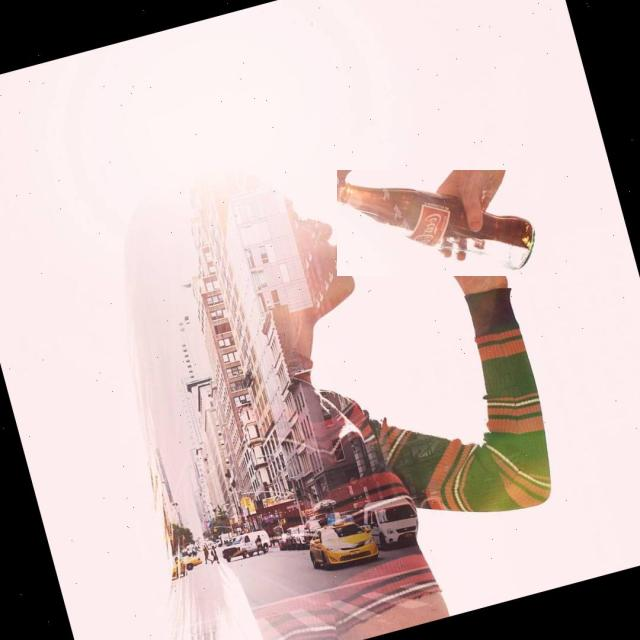coca-cola: (337, 170, 542, 276)
